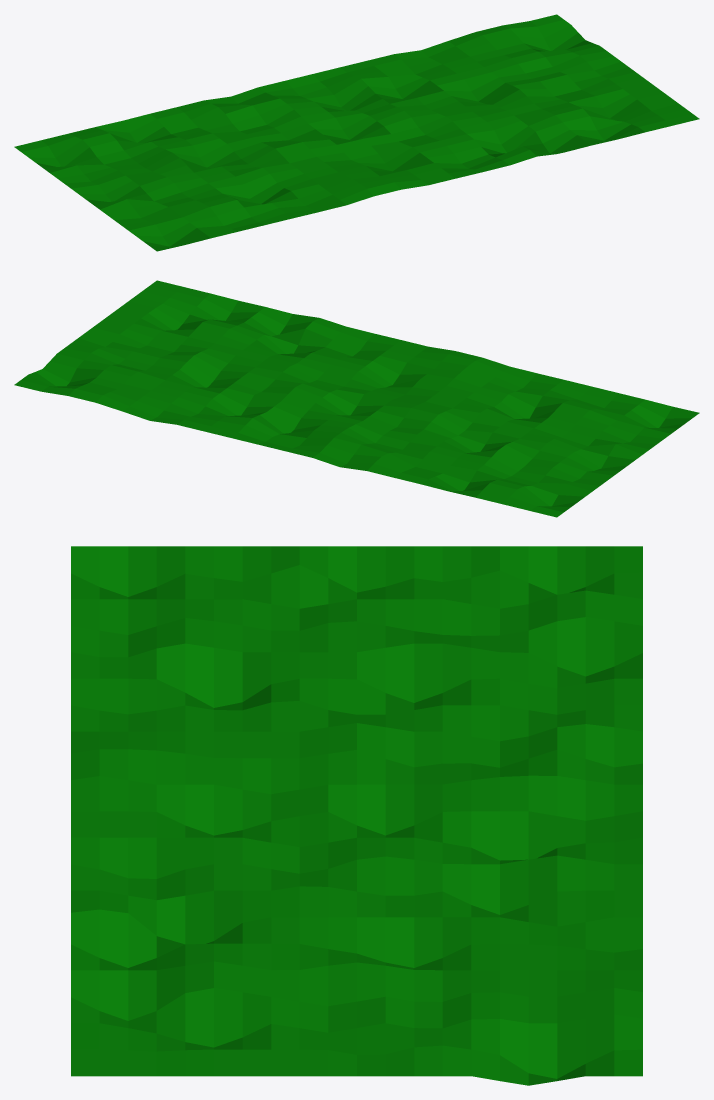
The model's file is Ground.fbx.
3 renders of one model, top to bottom at view 1: azimuth 30°, elevation 25°; view 2: azimuth 150°, elevation 25°; view 3: azimuth 270°, elevation 25°, orthographic. The views are drawn at different scales.
Visible parts, largest first — view 1: pPlane1; view 2: pPlane1; view 3: pPlane1.
Part boxes in pixels (box(x1,y1,x2,y2)): pPlane1: box(14, 14, 699, 251); pPlane1: box(14, 280, 699, 517); pPlane1: box(71, 546, 642, 1085).
Bounding box in the file's own units: 90.16 × 3.4 × 41.12.
